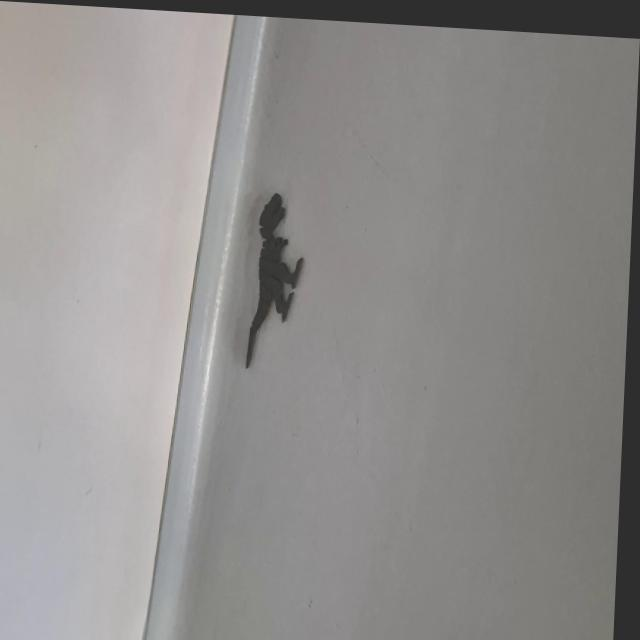dino: (245, 189, 307, 372)
